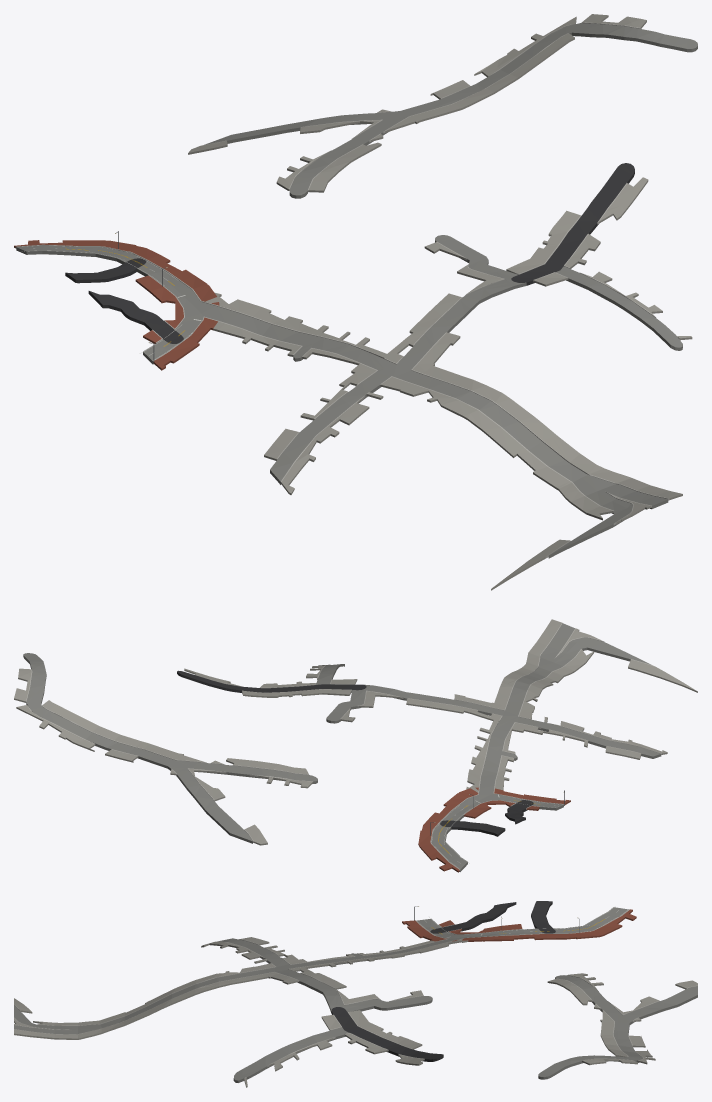
The picture shows the model from 3 angles, top to bottom: view 1: azimuth 30°, elevation 25°; view 2: azimuth 150°, elevation 25°; view 3: azimuth 270°, elevation 25°; orthographic projection. The views are drawn at different scales.
Bounding box in the file's own units: 243 × 63.84 × 292.
